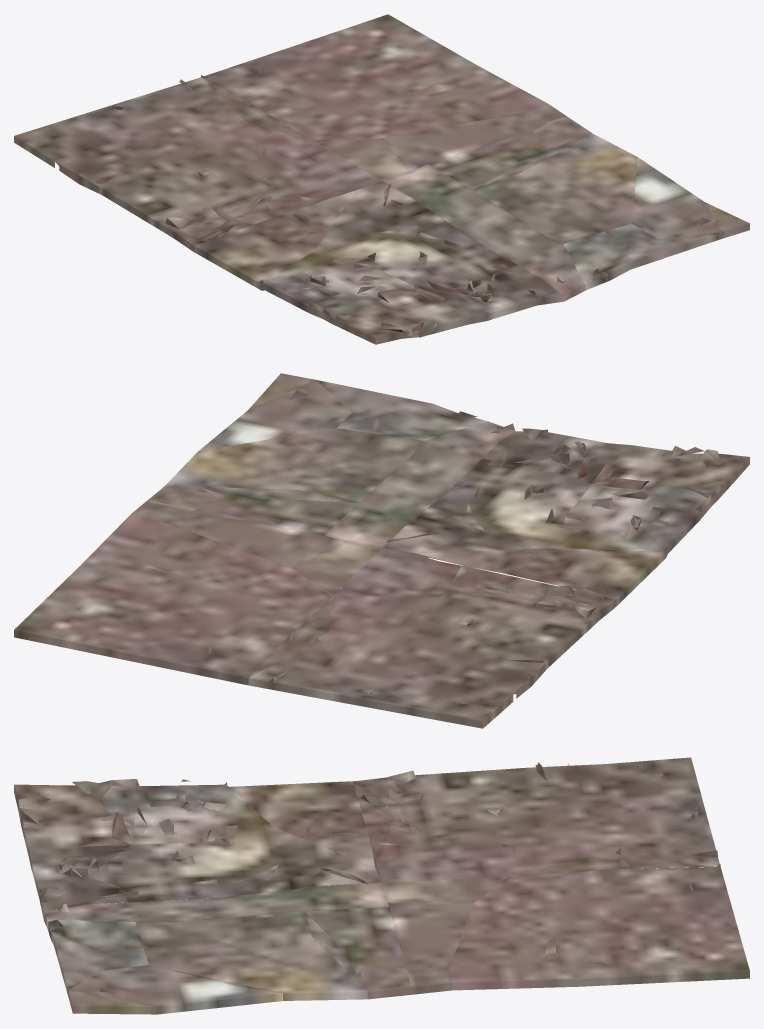
3 views of the same model, one above another, from view 1: azimuth 30°, elevation 25°; view 2: azimuth 150°, elevation 25°; view 3: azimuth 270°, elevation 25° (orthographic). The views are drawn at different scales.
Parts seen in each view (by area): view 1: Mesh_0; view 2: Mesh_0; view 3: Mesh_0.
Part boxes in pixels (x1=…): Mesh_0: x1=14, y1=14, x2=749, y2=344; Mesh_0: x1=14, y1=373, x2=749, y2=728; Mesh_0: x1=14, y1=757, x2=749, y2=1014.
Bounding box in the file's own units: 2130 × 128 × 2636.
1 material, 1 textured.
